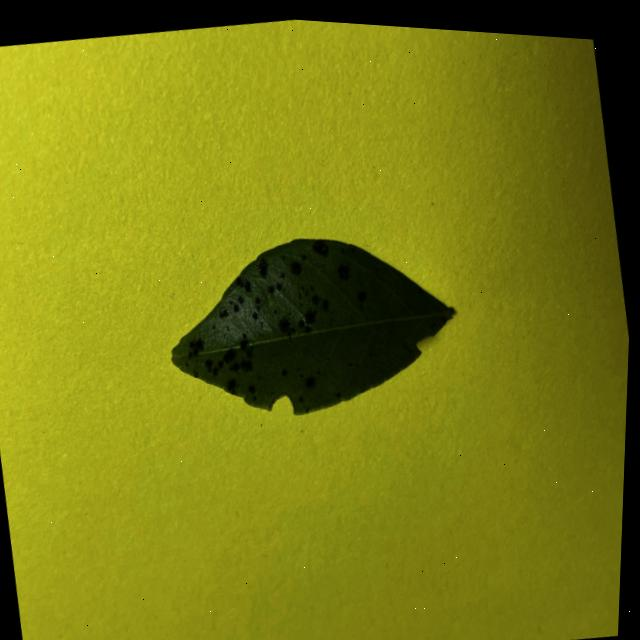sooty_mold: (172, 239, 453, 414)
